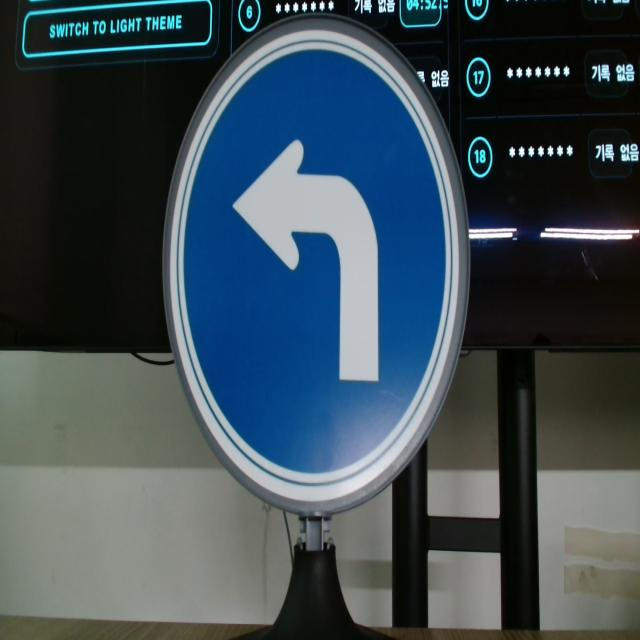left_direction: (155, 14, 496, 564)
